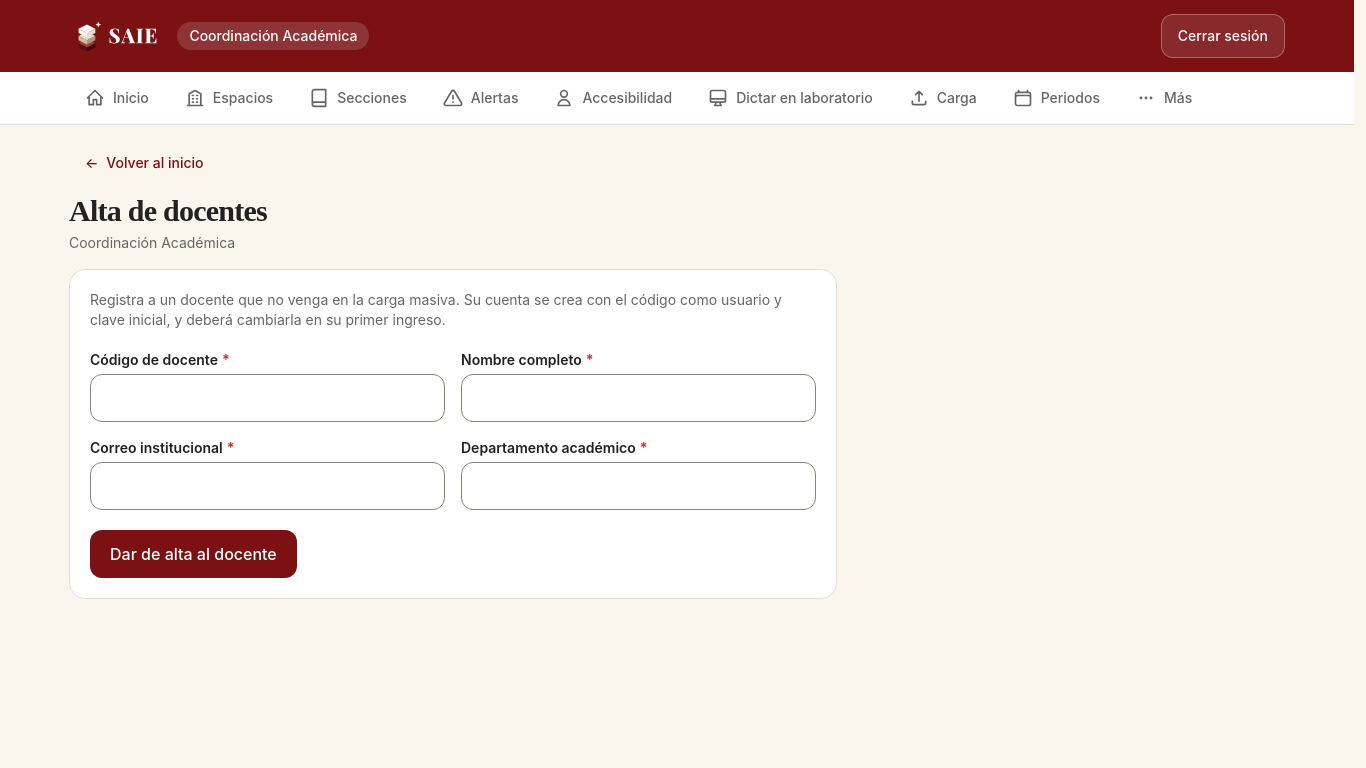
Test case: AltaDocentePage (Issue 4.18) › da de alta al docente con todos sus datos
This screenshot has width=1366, height=768.
In the field labelled "Código de docente*": (268, 398) 90,374 -> 445,422, type "D001"
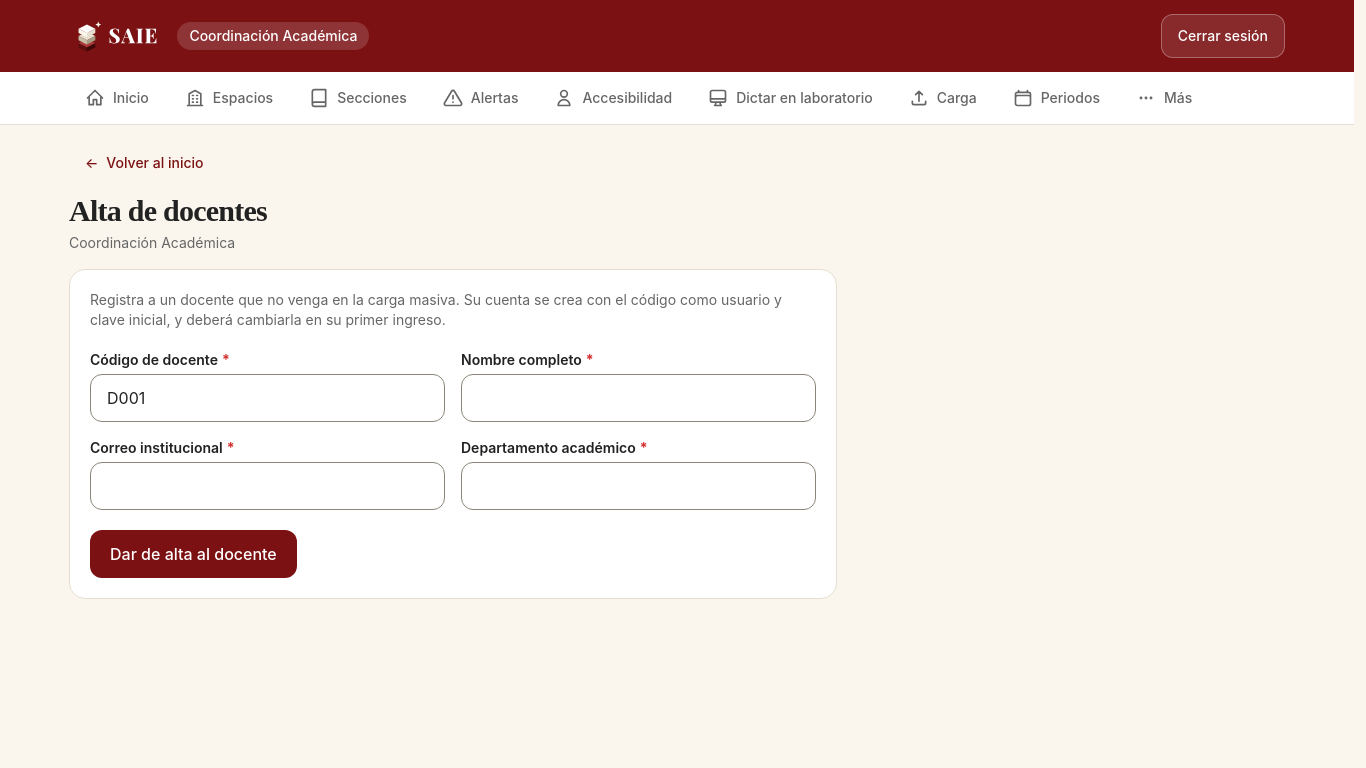
In the field labelled "Nombre completo*": (638, 398) 461,374 -> 816,422, type "Luis Rojas"
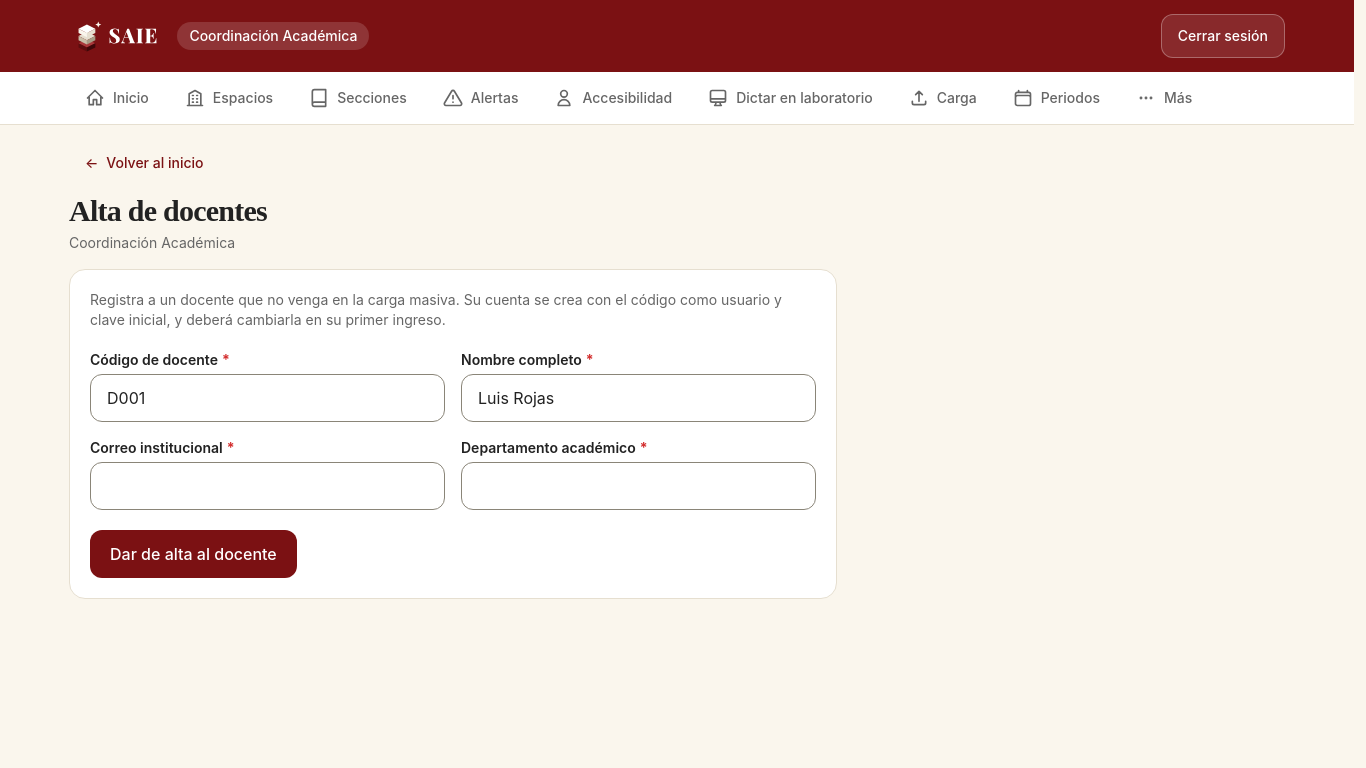
In the field labelled "Correo institucional*": (268, 486) 90,462 -> 445,510, type "lrojas@unmsm.pe"
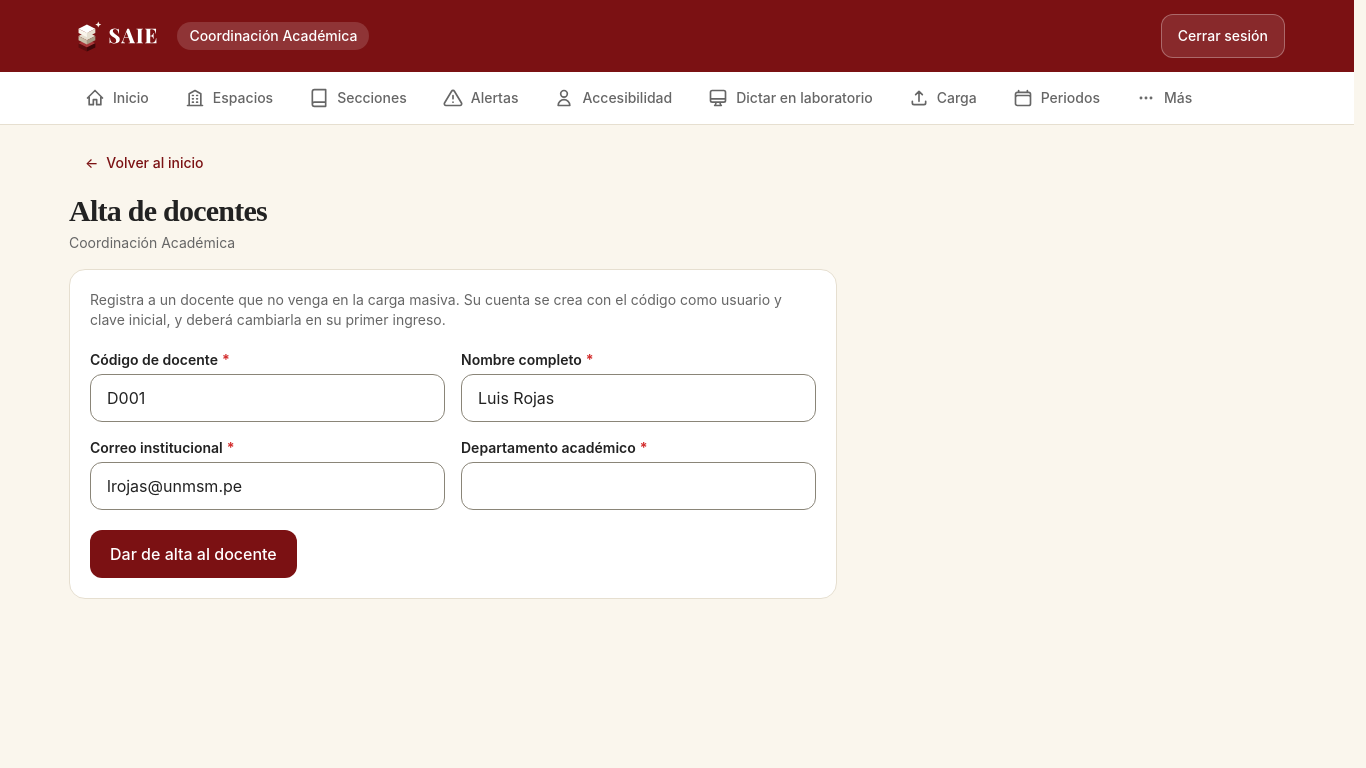
In the field labelled "Departamento académico*": (638, 486) 461,462 -> 816,510, type "Ingeniería de Software"
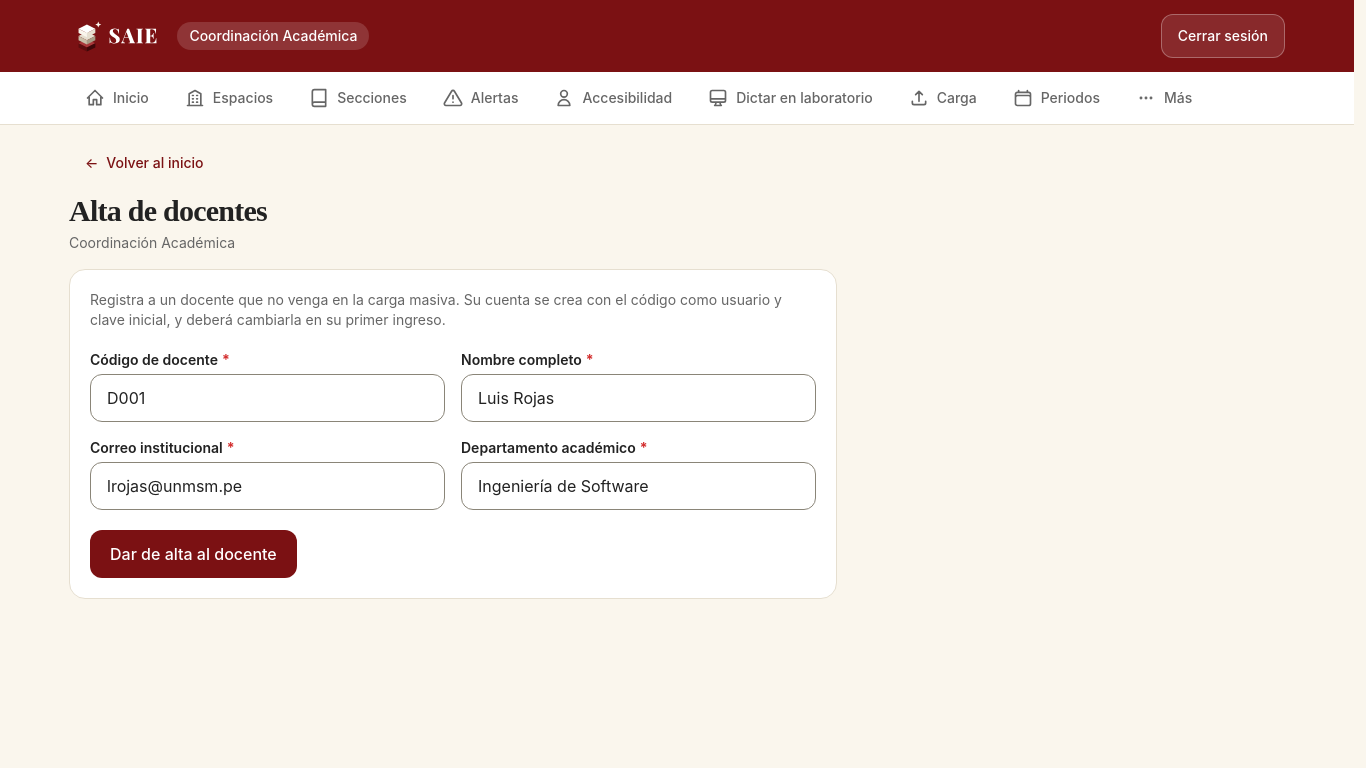
Click the button "Dar de alta al docente": (193, 554) 90,530 -> 297,578
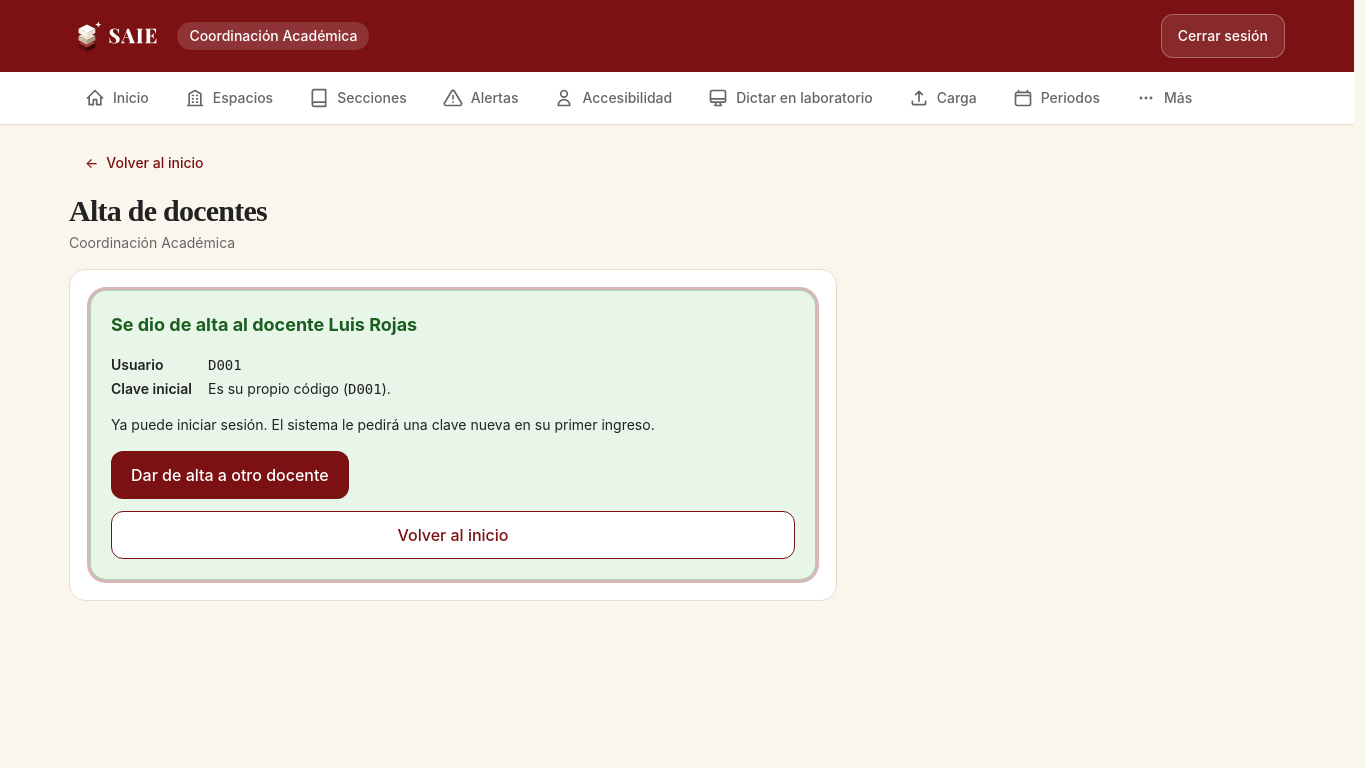
Now the heading "Se dio de alta al docente Luis Rojas" is shown, box 111,314 -> 417,335
